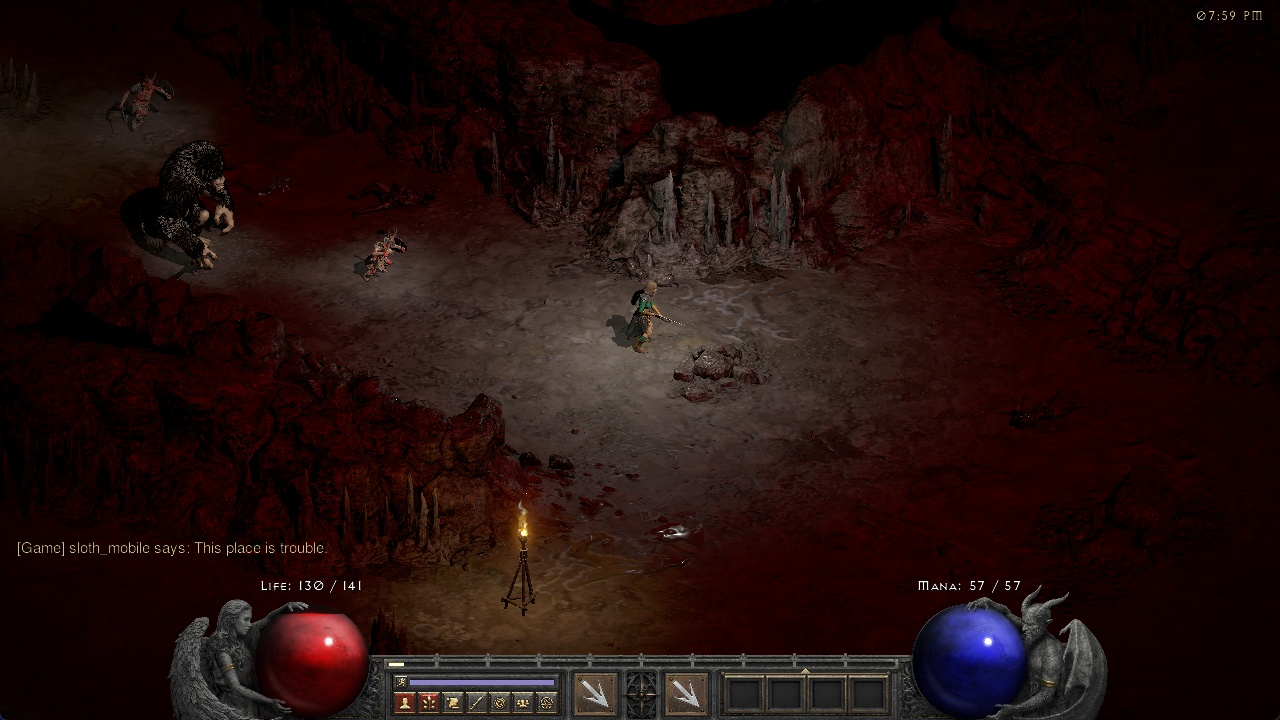fallen: (114, 72, 180, 132), (359, 226, 411, 282)
